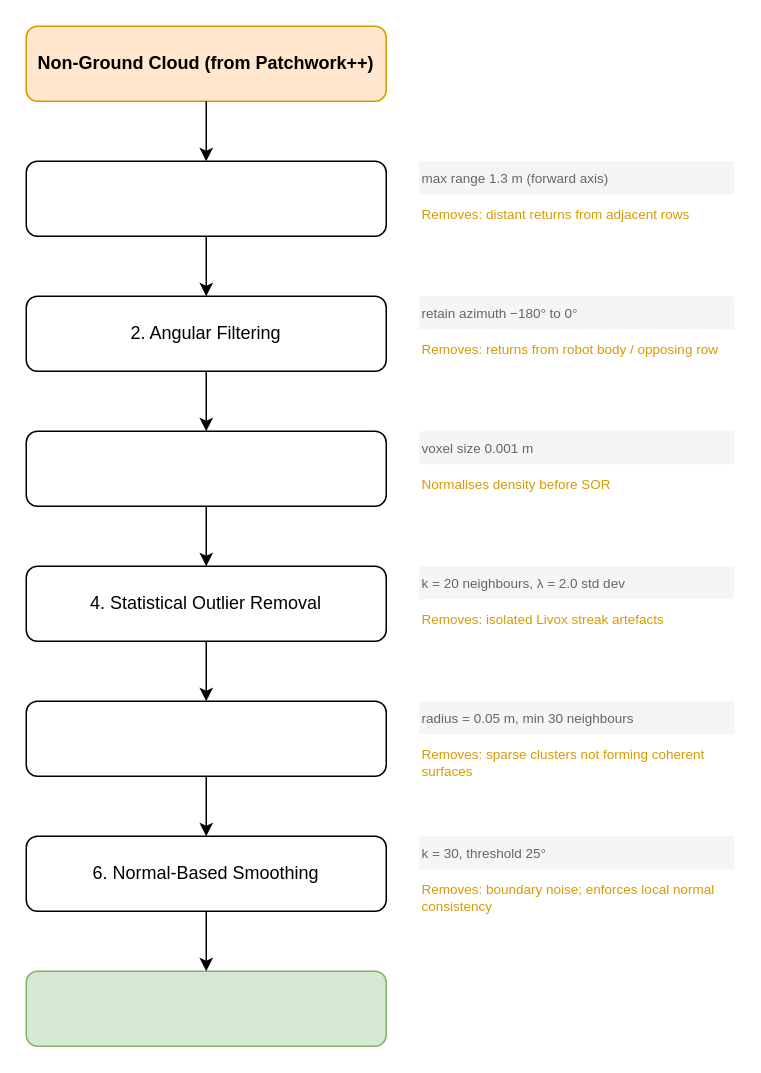
Image size: 761x1073. Some labels were removed from this diagram. Here are the shapes that lost their labels. From the top down, the box of each, then its label:
(25, 160, 386, 236): 1. Range Filtering
(25, 430, 386, 506): 3. Voxel Downsampling
(25, 700, 386, 776): 5. Radial Outlier Removal
(25, 970, 386, 1046): Filtered Vine Point Cloud → ICP
